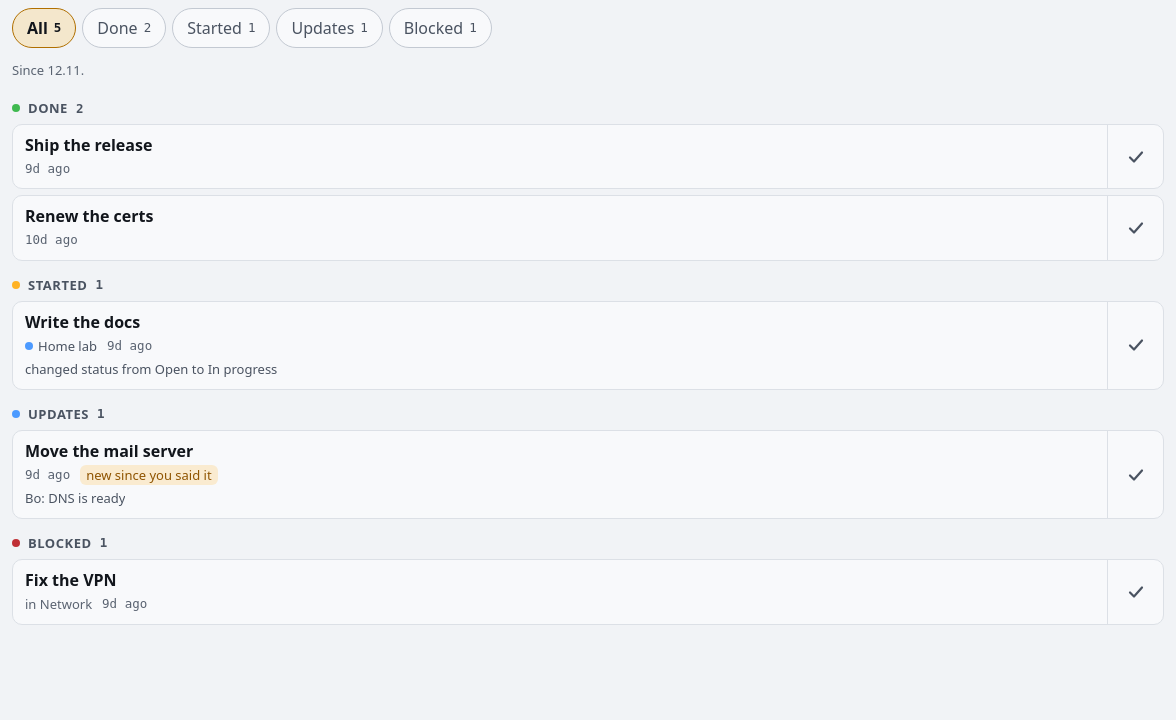
Test: standup list › puts the item back and says why when the server refuses the tick
The width and height of the screenshot is (1176, 720).
Click the button named "Said: Fix the VPN". click: (1135,592)
box: x1=1107 y1=560 x2=1163 y2=624
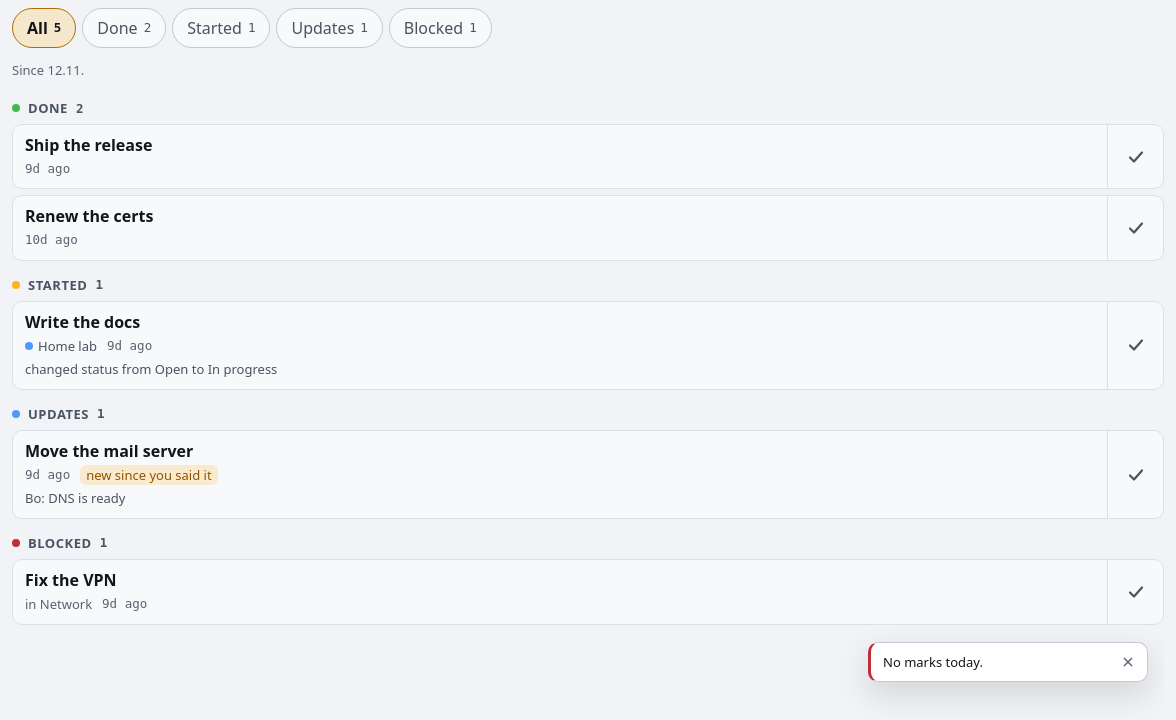
Check: the button "Blocked 1" is shown, box x1=389 y1=8 x2=492 y2=48
Check: the text "No marks today." is shown, box x1=883 y1=653 x2=983 y2=671
